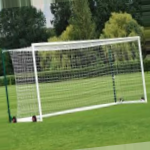goals: (8, 34, 149, 124)
